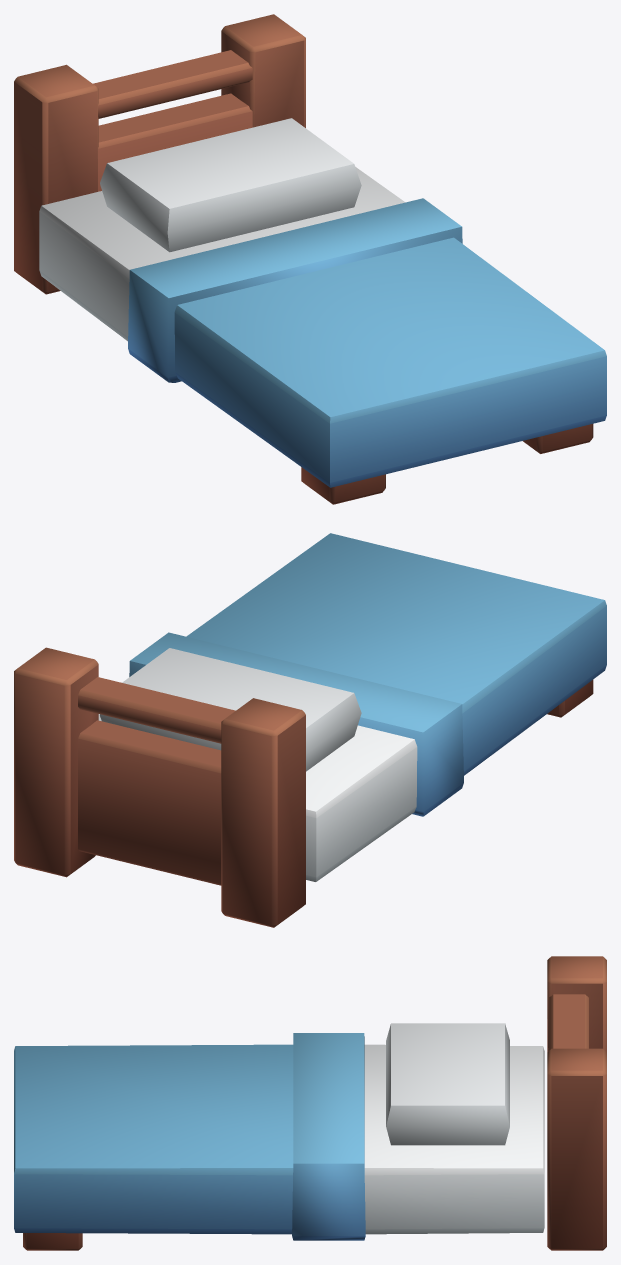
The model's file is cc0-bed-single-lod1.glb.
3 renders of one model, top to bottom at view 1: azimuth 30°, elevation 25°; view 2: azimuth 150°, elevation 25°; view 3: azimuth 270°, elevation 25°, orthographic. The views are drawn at different scales.
Parts seen in each view (by area): view 1: part_0; view 2: part_0; view 3: part_0.
Boxes of the visible parts, x1,y1,x2,y2 form: part_0: (14, 14, 606, 504); part_0: (14, 533, 606, 927); part_0: (14, 956, 606, 1250).
Size of the model in its own units: 1.57 by 1 by 2.99.
Materials: 1 (1 with a texture image).
